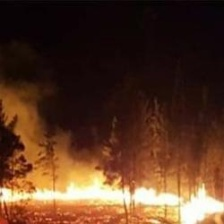fire: (1, 185, 181, 206), (185, 184, 223, 224)
